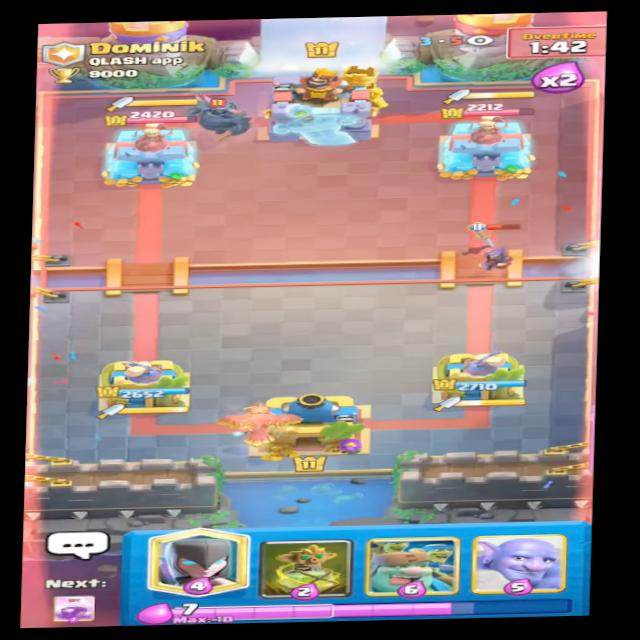evo-wizard: (471, 216, 537, 271)
pekka: (176, 93, 264, 143)
